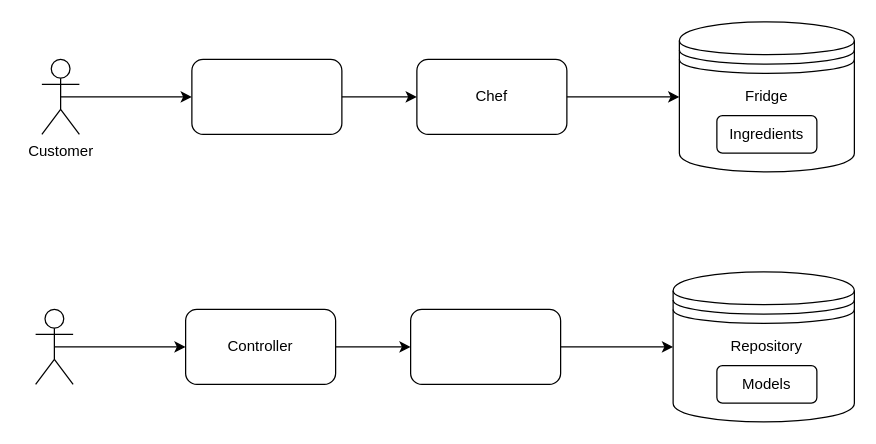
The diagram is 876 pixels wide and 444 high, and some of its shapes have lost their labels. Here are the shapes that lost their labels. From the top down, the centre of each, then its label:
At pixel 266 96: "Waiter".
At pixel 53 346: "Front-end".
At pixel 485 346: "Services".
